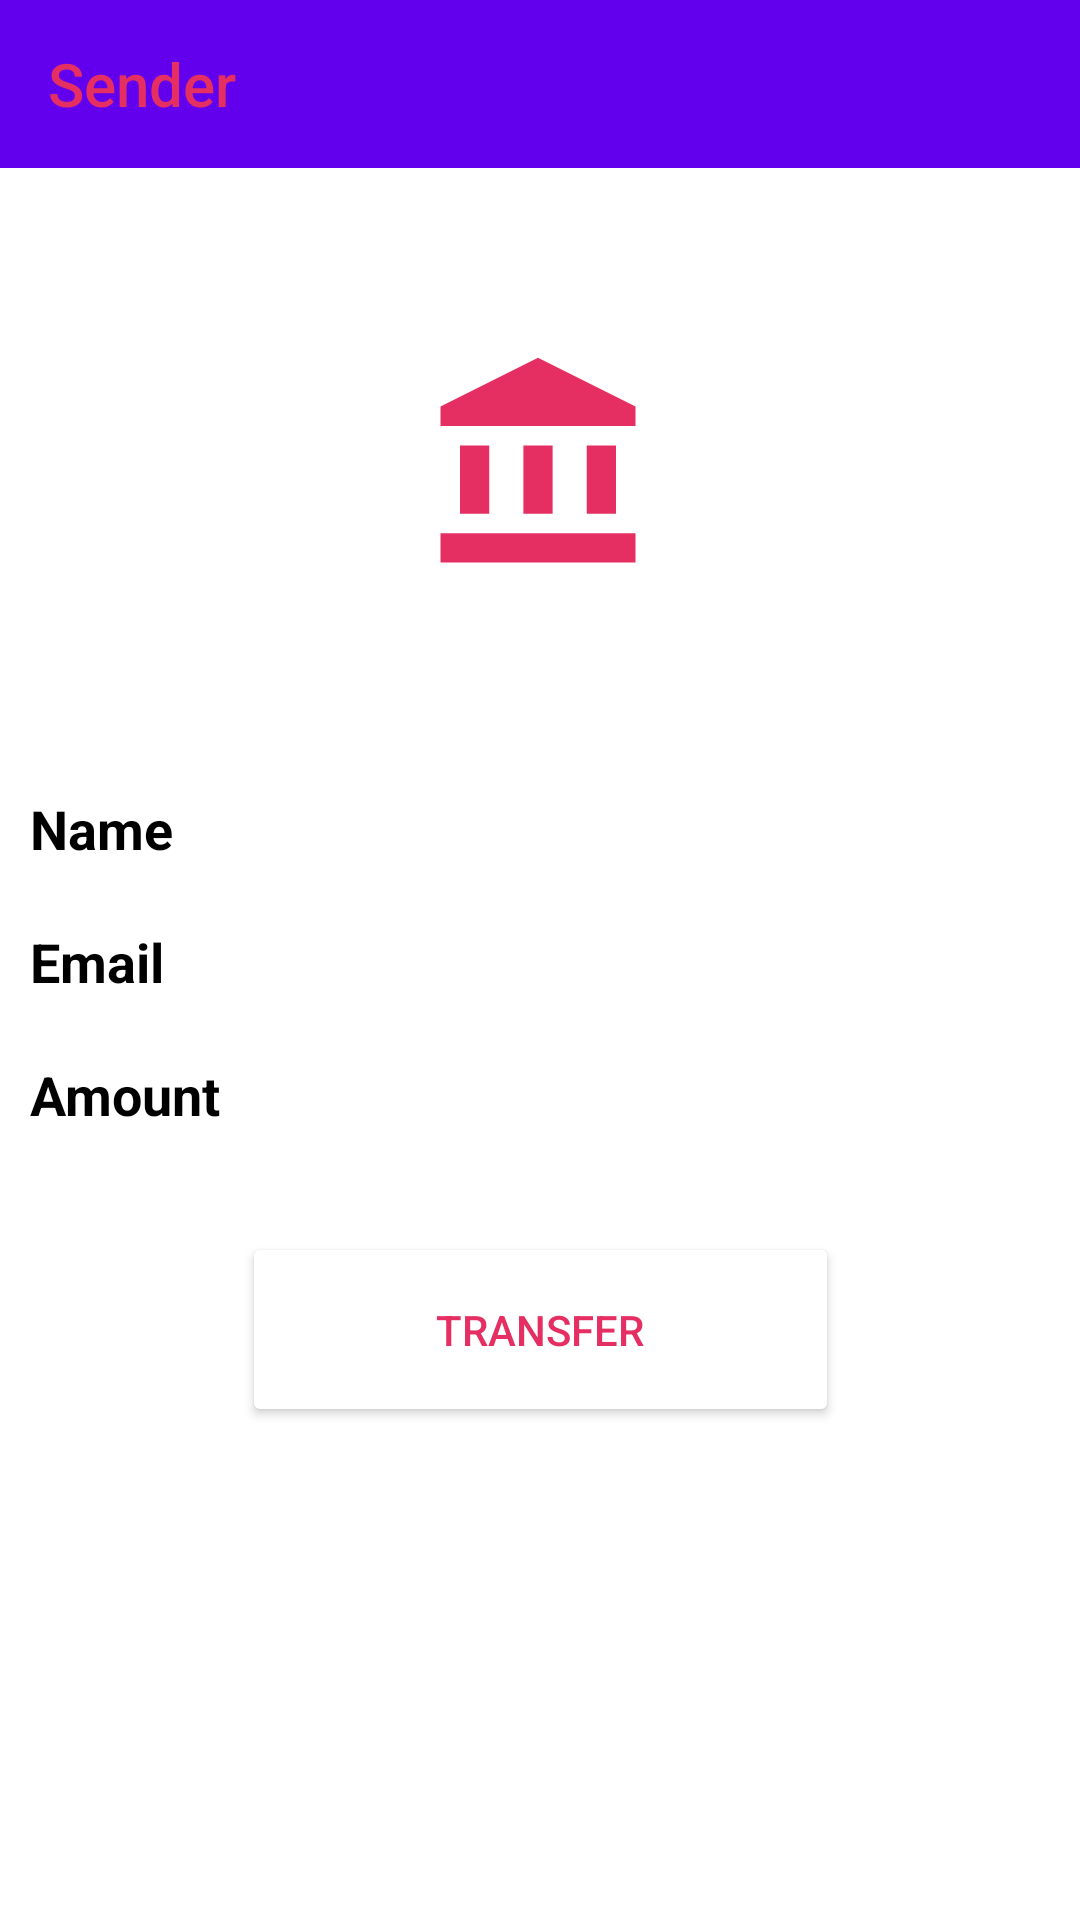

Icon click points for this 1080px x 1920px phone screenshot, format [x,y]:
account balance: [538,460]
